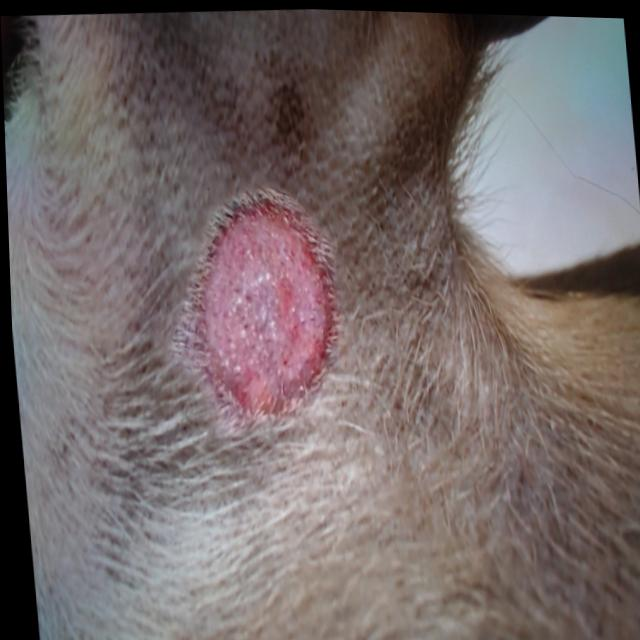ringworm: (169, 169, 358, 446)
